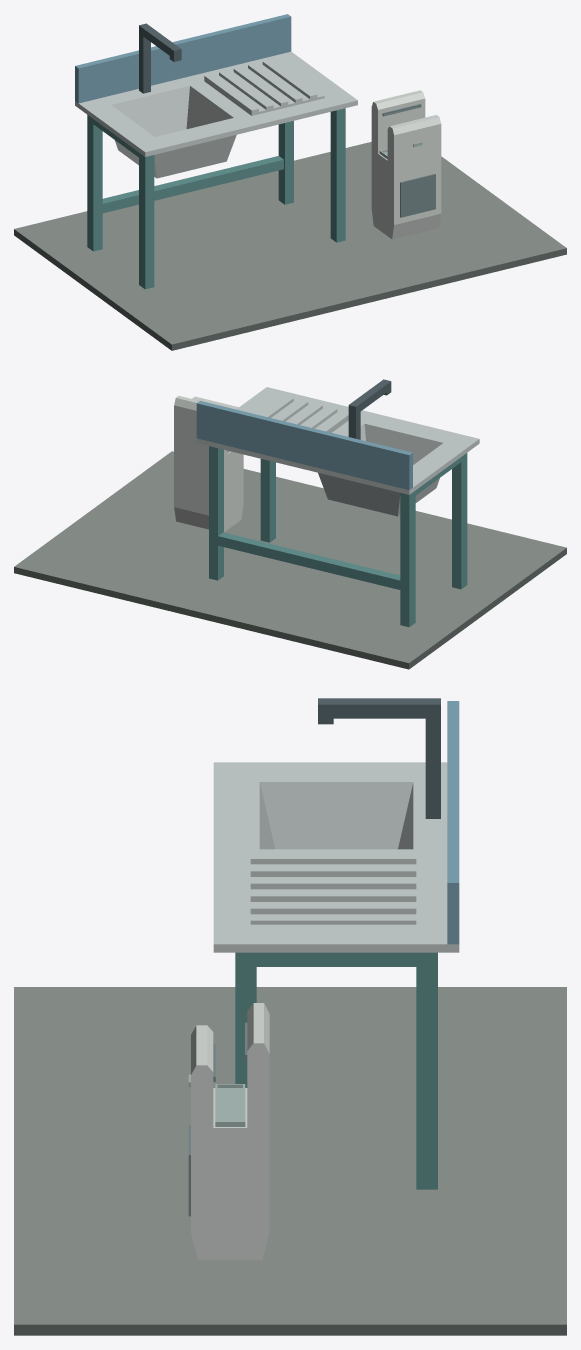
3 renders of one model, top to bottom at view 1: azimuth 30°, elevation 25°; view 2: azimuth 150°, elevation 25°; view 3: azimuth 270°, elevation 25°, orthographic. The views are drawn at different scales.
Visible parts, largest first — view 1: SCENE_ONLY__DisplayFloor, sink__IntegralOffsetDeepBasinAndSideDeck, dryer__WholeContinuousLowerBodyAndOpposedShoulders, sink__RearBlueSplashPanel, sink__LeftOpenEndTrestle, sink__ContinuousFiveRibDrainboard, sink__RightOpenEndTrestle, sink__RearLowerFrameStretcher, sink__FixedHighAngularTapExterior, dryer__WholeProudLowerServicePanel; view 2: SCENE_ONLY__DisplayFloor, sink__IntegralOffsetDeepBasinAndSideDeck, sink__RearBlueSplashPanel, dryer__WholeContinuousLowerBodyAndOpposedShoulders, sink__LeftOpenEndTrestle, sink__RightOpenEndTrestle, sink__RearLowerFrameStretcher, sink__ContinuousFiveRibDrainboard, sink__FixedHighAngularTapExterior; view 3: SCENE_ONLY__DisplayFloor, sink__IntegralOffsetDeepBasinAndSideDeck, dryer__WholeContinuousLowerBodyAndOpposedShoulders, sink__ContinuousFiveRibDrainboard, sink__RightOpenEndTrestle, sink__FixedHighAngularTapExterior, sink__RearBlueSplashPanel, dryer__WholeShallowBayBottomTray.
Part boxes in pixels (x1,y1,x2,y2): SCENE_ONLY__DisplayFloor: (14,142,566,350); sink__IntegralOffsetDeepBasinAndSideDeck: (75,51,357,178); dryer__WholeContinuousLowerBodyAndOpposedShoulders: (371,90,441,239); sink__RearBlueSplashPanel: (75,14,291,103); sink__LeftOpenEndTrestle: (87,115,154,289); sink__ContinuousFiveRibDrainboard: (204,60,324,115); sink__RightOpenEndTrestle: (278,108,345,242); sink__RearLowerFrameStretcher: (102,156,283,213); sink__FixedHighAngularTapExterior: (139,23,181,93); dryer__WholeProudLowerServicePanel: (400,174,435,217); SCENE_ONLY__DisplayFloor: (14,451,566,669); sink__IntegralOffsetDeepBasinAndSideDeck: (196,387,479,516); sink__RearBlueSplashPanel: (196,401,412,490); dryer__WholeContinuousLowerBodyAndOpposedShoulders: (174,395,243,531); sink__LeftOpenEndTrestle: (400,453,467,627); sink__RightOpenEndTrestle: (209,446,275,580); sink__RearLowerFrameStretcher: (218,532,400,589); sink__ContinuousFiveRibDrainboard: (256,396,348,432); sink__FixedHighAngularTapExterior: (348,379,391,439); SCENE_ONLY__DisplayFloor: (14,987,566,1335); sink__IntegralOffsetDeepBasinAndSideDeck: (213,762,459,952); dryer__WholeContinuousLowerBodyAndOpposedShoulders: (191,1003,269,1260); sink__ContinuousFiveRibDrainboard: (250,852,416,924); sink__RightOpenEndTrestle: (235,952,437,1189); sink__FixedHighAngularTapExterior: (318,698,440,818); sink__RearBlueSplashPanel: (447,701,459,944); dryer__WholeShallowBayBottomTray: (215,1084,245,1126).
Size of the model in its own units: 2.6 by 1.35 by 1.8.
